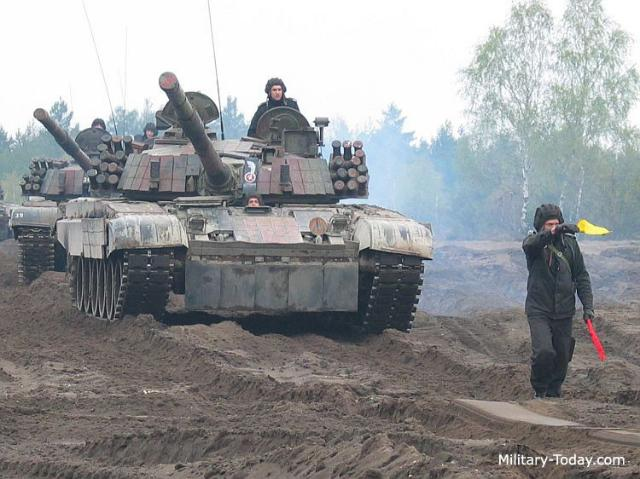other: (512, 193, 594, 392), (245, 74, 302, 139)
tank: (63, 127, 430, 328), (13, 127, 132, 280)
